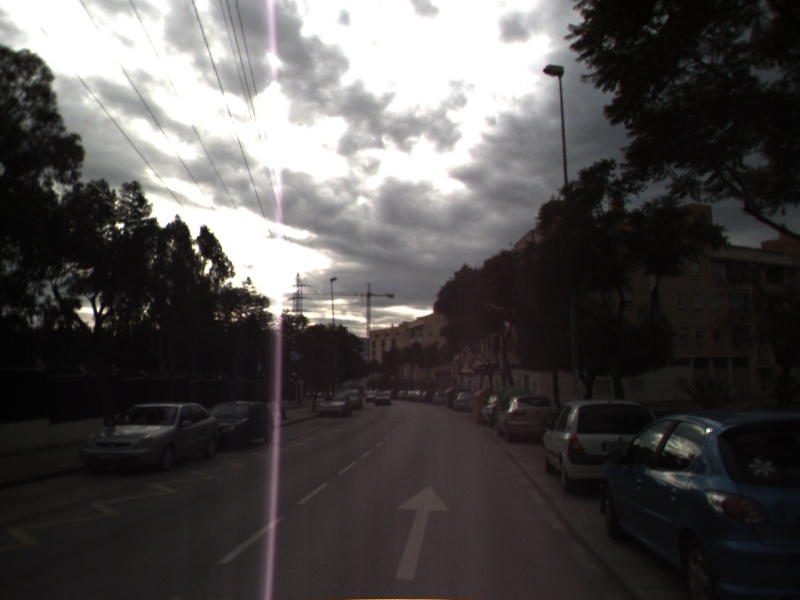STRAIGHT: (393, 484, 453, 582)
